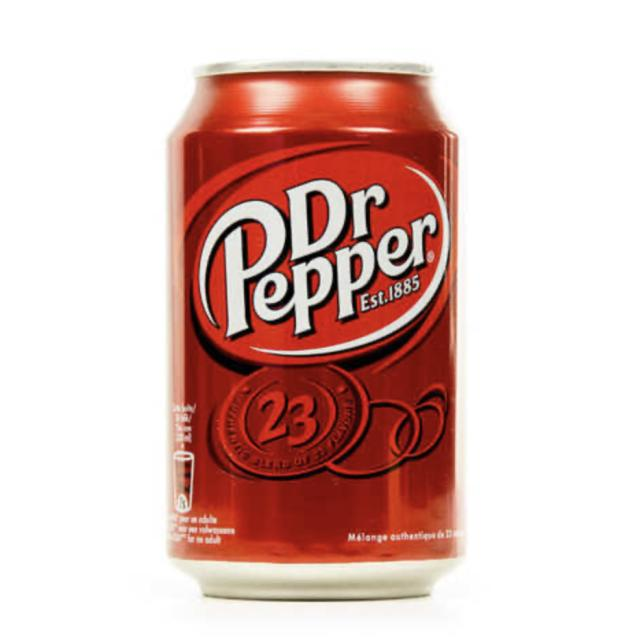recyclable: (140, 33, 472, 617)
